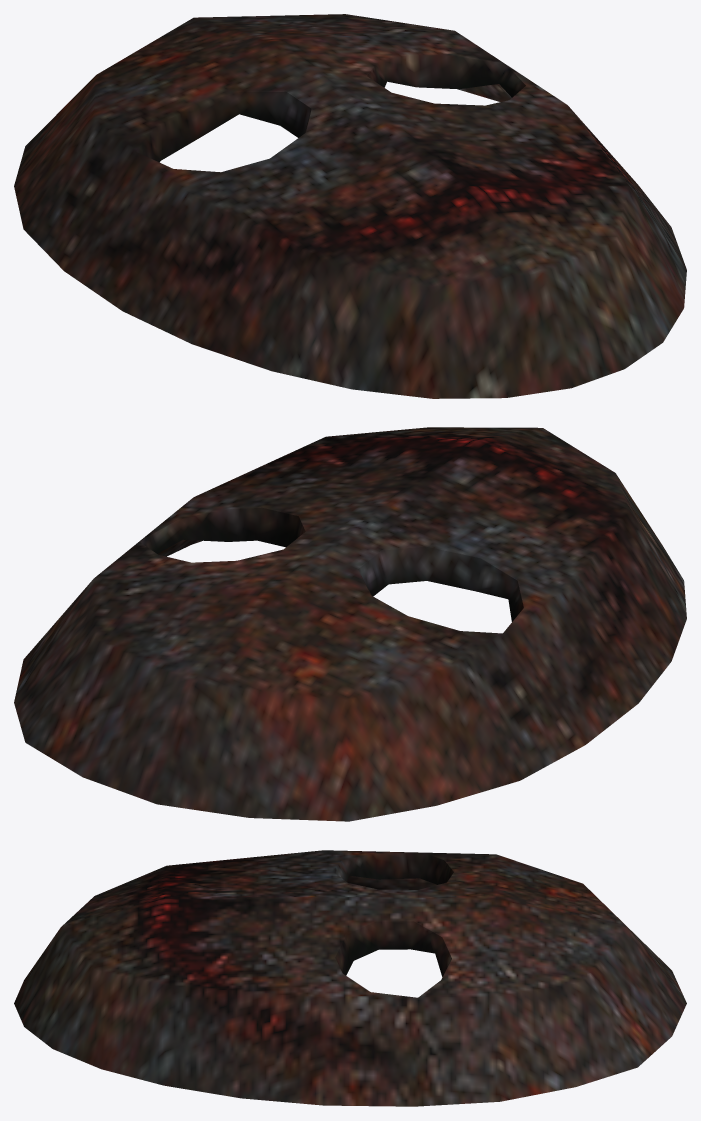
Rendered from mask_mx_5.obj.
3 renders of one model, top to bottom at view 1: azimuth 30°, elevation 25°; view 2: azimuth 150°, elevation 25°; view 3: azimuth 270°, elevation 25°, orthographic. The views are drawn at different scales.
Visible parts, largest first — view 1: mask_mx_5; view 2: mask_mx_5; view 3: mask_mx_5.
Part boxes in pixels (x1,y1,x2,y2): mask_mx_5: (14, 14, 686, 398); mask_mx_5: (14, 427, 686, 821); mask_mx_5: (14, 850, 686, 1106).
Bounding box in the file's own units: 0.2322 × 0.0554 × 0.3198.
